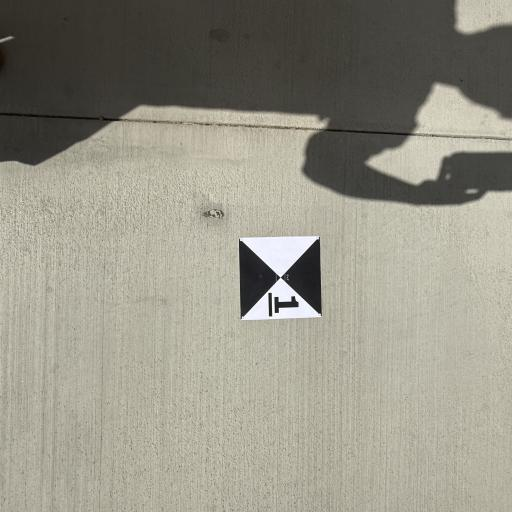target1: (236, 230, 326, 325)
